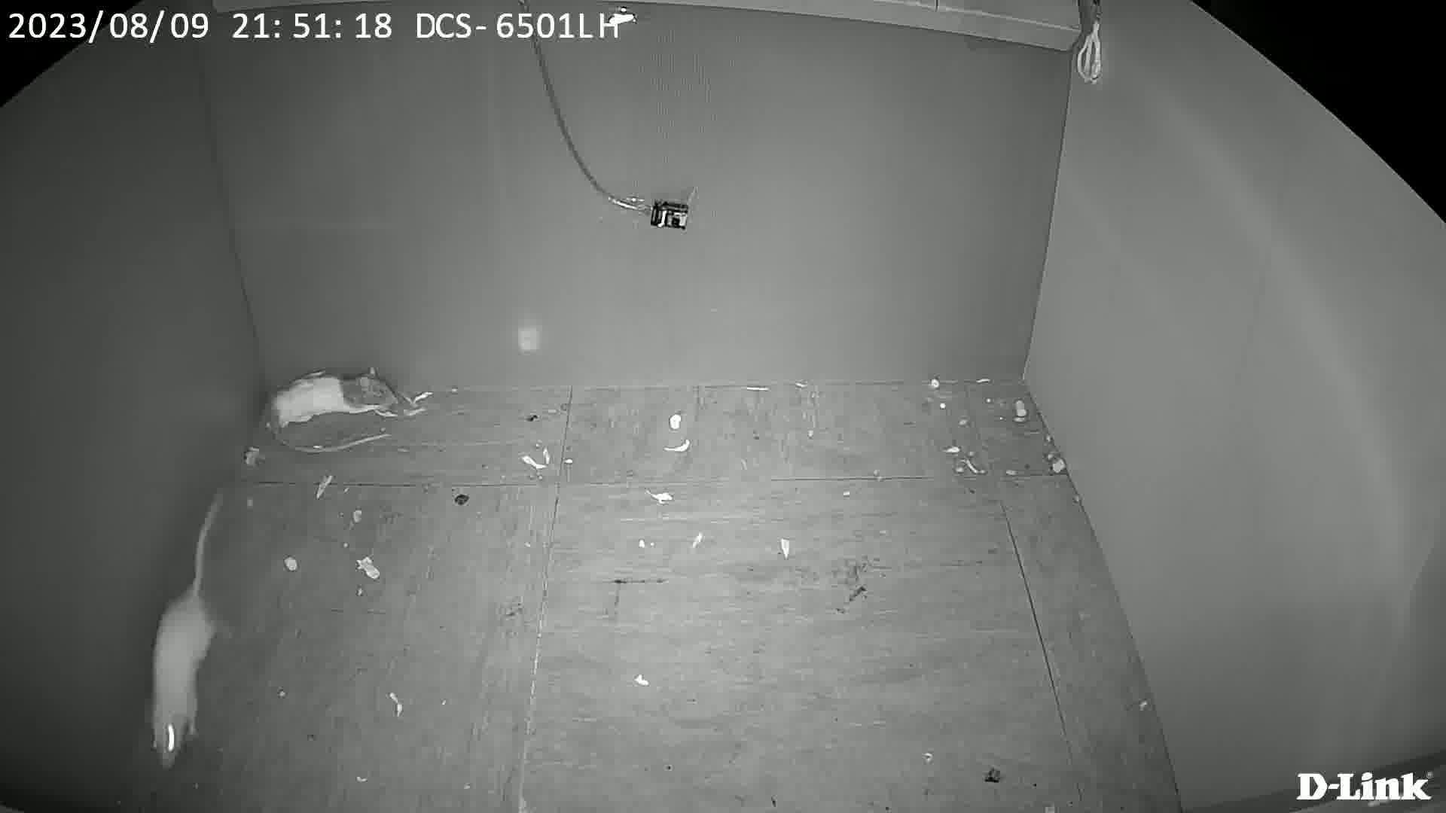rat: (124, 582, 220, 773), (251, 365, 405, 434)
